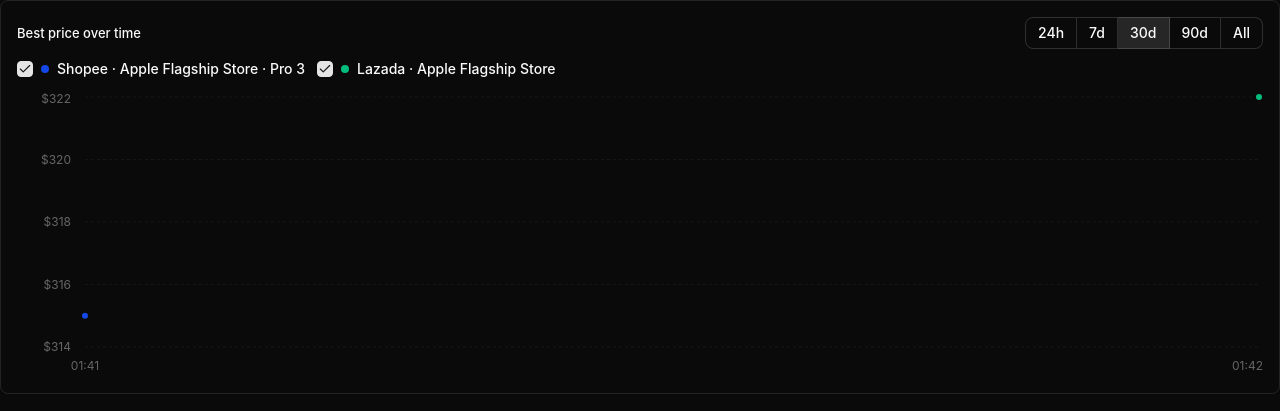
Test: PriceChart › lets you hide a line and bring it back
Expected: the checkbox named "Shopee · Apple Flagship Store · Pro 3" next to "Shopee · Apple Flagship Store · Pro 3" is checked, [17,61,33,77]
Click the checkbox named "Lazada · Apple Flagship Store" next to "Lazada · Apple Flagship Store" at (325, 69), box [317,61,333,77]
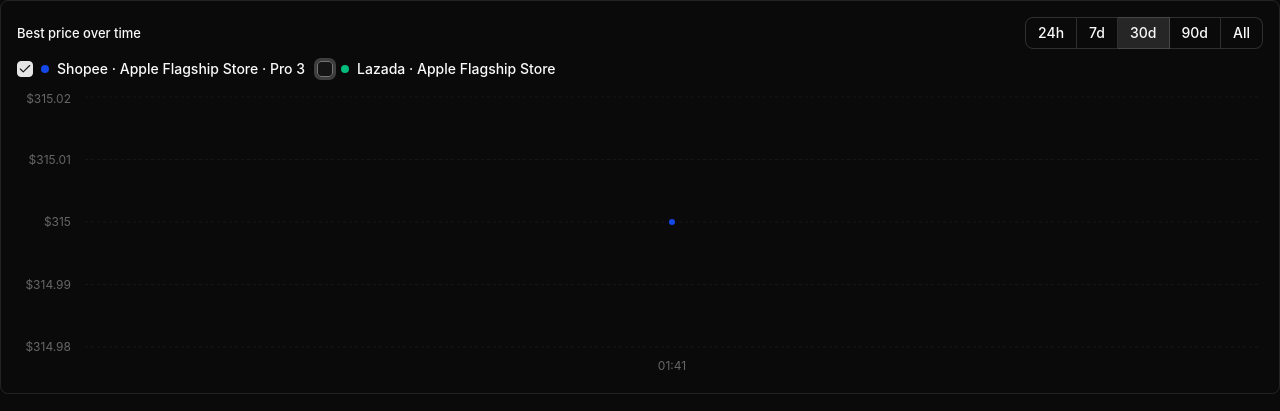
Now the checkbox named "Lazada · Apple Flagship Store" next to "Lazada · Apple Flagship Store" is not checked, box [317,61,333,77]
Click the checkbox named "Shopee · Apple Flagship Store · Pro 3" next to "Shopee · Apple Flagship Store · Pro 3" at (25, 69), box [17,61,33,77]
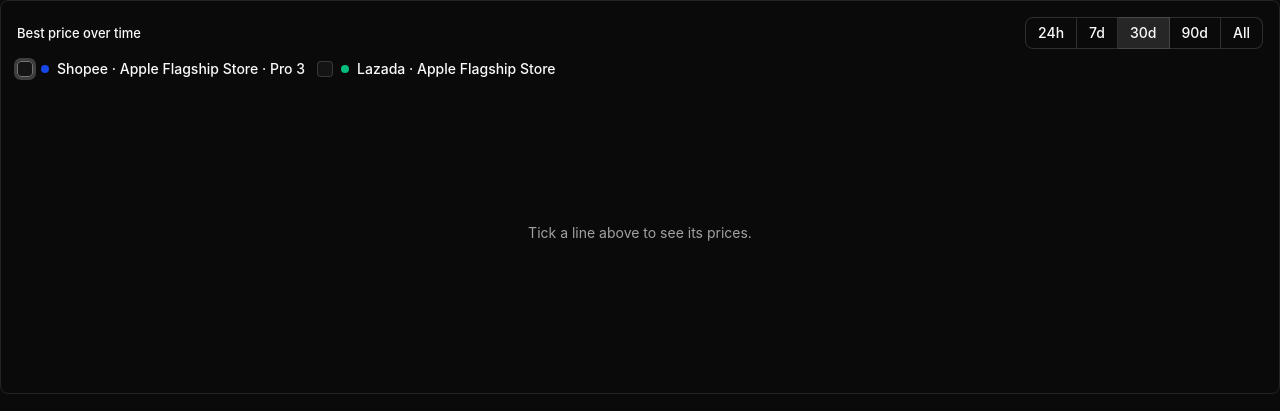
Now the text "Tick a line above to see its prices." is shown, box [528,224,752,241]
Click the checkbox named "Lazada · Apple Flagship Store" next to "Lazada · Apple Flagship Store" at (325, 69), box [317,61,333,77]
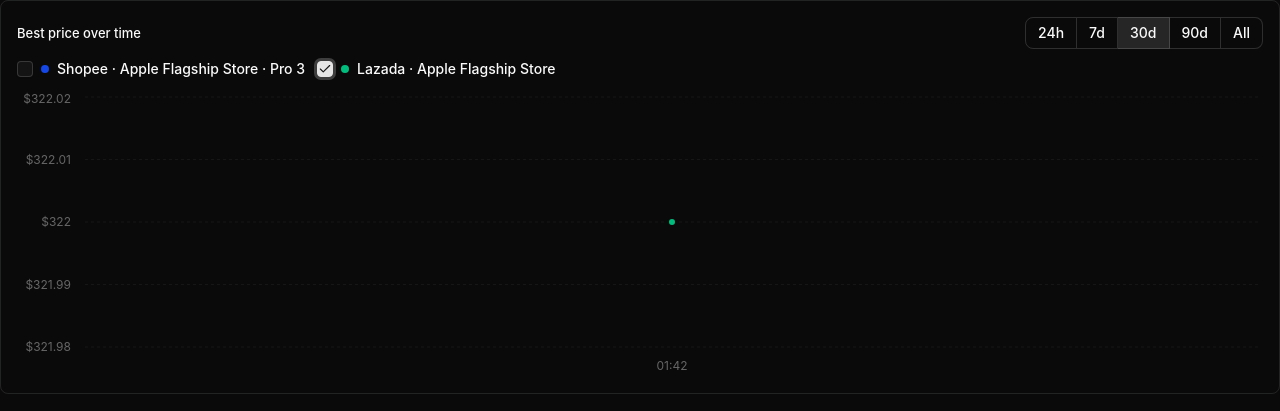
Now the checkbox named "Lazada · Apple Flagship Store" next to "Lazada · Apple Flagship Store" is checked, box [317,61,333,77]
Now the text "Tick a line above to see its prices." is gone
